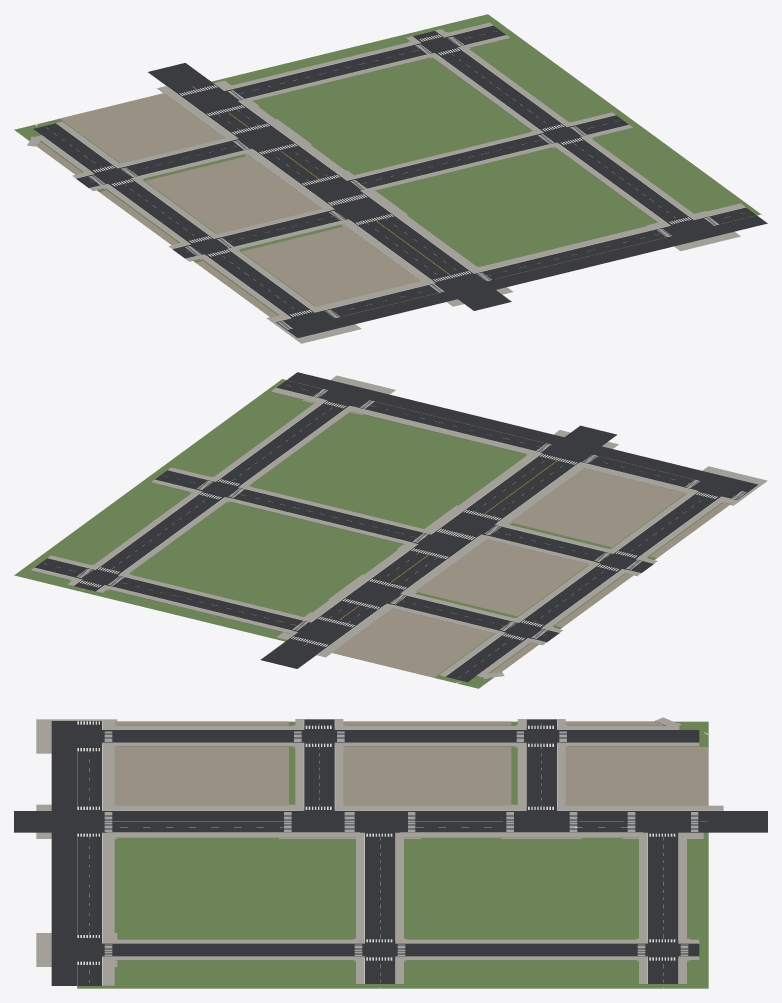
File: Ground_5_4.fbx
3 views of the same model, one above another, from view 1: azimuth 30°, elevation 25°; view 2: azimuth 150°, elevation 25°; view 3: azimuth 270°, elevation 25° (orthographic). The views are drawn at different scales.
Visible parts, largest first — view 1: Ground_5_4; view 2: Ground_5_4; view 3: Ground_5_4.
Part boxes in pixels (x1,y1,x2,y2): Ground_5_4: (14, 14, 767, 343); Ground_5_4: (14, 372, 767, 688); Ground_5_4: (14, 717, 767, 988).
Size of the model in its own units: 254 by 0.14 by 298.
